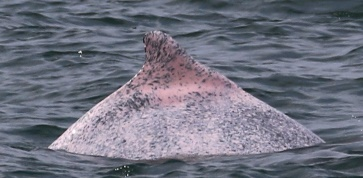fin: (41, 27, 334, 163)
